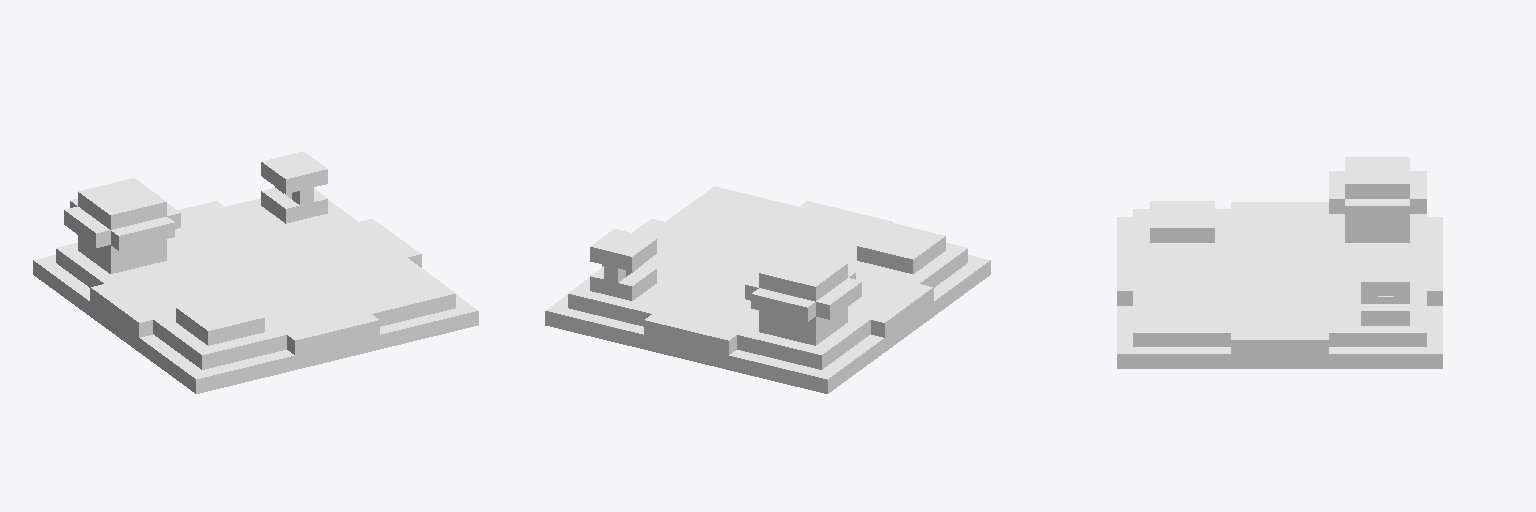
File: crossroadhouse.obj
3 views of the same model, side by side, from view 1: azimuth 30°, elevation 25°; view 2: azimuth 150°, elevation 25°; view 3: azimuth 270°, elevation 25° (orthographic).
Bounding box in the file's own units: 20 × 6 × 20.